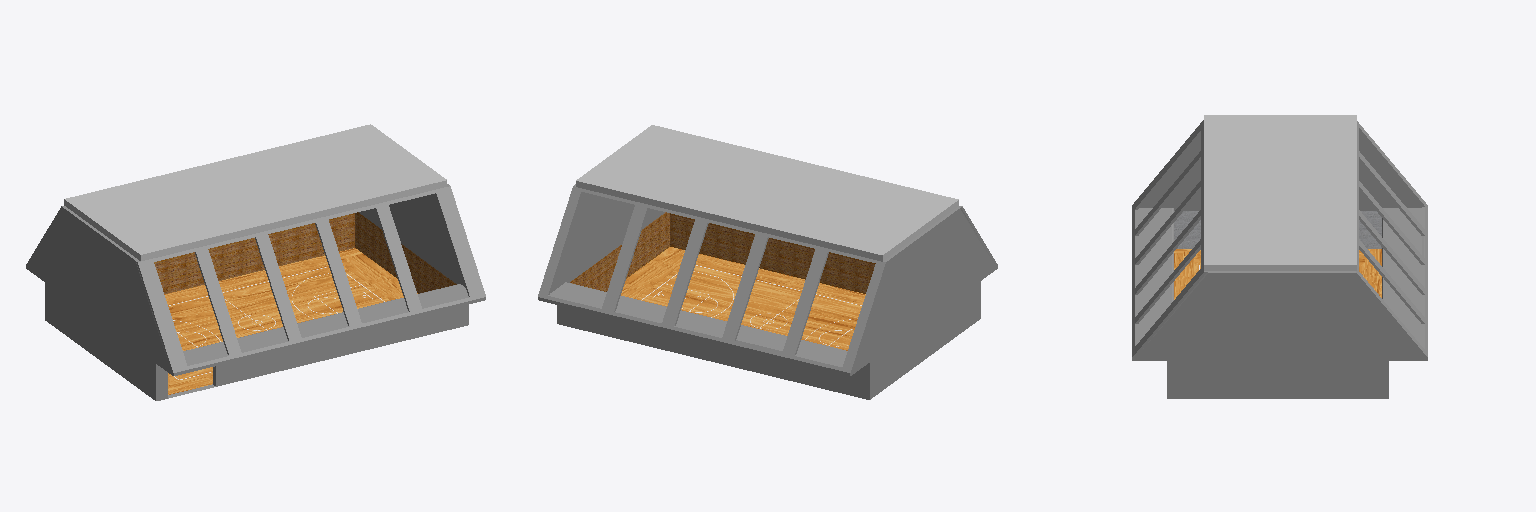
3 views of the same model, side by side, from view 1: azimuth 30°, elevation 25°; view 2: azimuth 150°, elevation 25°; view 3: azimuth 270°, elevation 25° (orthographic).
Parts seen in each view (by area): view 1: sprothalle_Plane.002, Plane, boden_Plane, sprothalle_Plane.001, sprothalle_Plane.003; view 2: sprothalle_Plane.002, Plane, boden_Plane, sprothalle_Plane.004, sprothalle_Plane.003; view 3: sprothalle_Plane.002, Plane, boden_Plane, sprothalle_Plane.000.
Boxes of the visible parts, box(x1,y1,x2,y2) form: sprothalle_Plane.002: box(26, 184, 485, 400); Plane: box(64, 124, 446, 260); boden_Plane: box(164, 248, 417, 394); sprothalle_Plane.001: box(154, 213, 354, 293); sprothalle_Plane.003: box(355, 212, 456, 293); sprothalle_Plane.002: box(538, 184, 997, 399); Plane: box(576, 125, 958, 261); boden_Plane: box(621, 247, 865, 350); sprothalle_Plane.004: box(670, 213, 875, 293); sprothalle_Plane.003: box(570, 212, 669, 291); sprothalle_Plane.002: box(1132, 120, 1427, 398); Plane: box(1204, 115, 1356, 270); boden_Plane: box(1174, 249, 1381, 299); sprothalle_Plane.000: box(1174, 211, 1381, 248).
Bounding box in the file's own units: 52.05 × 21 × 42.5.
5 materials, 3 textured.